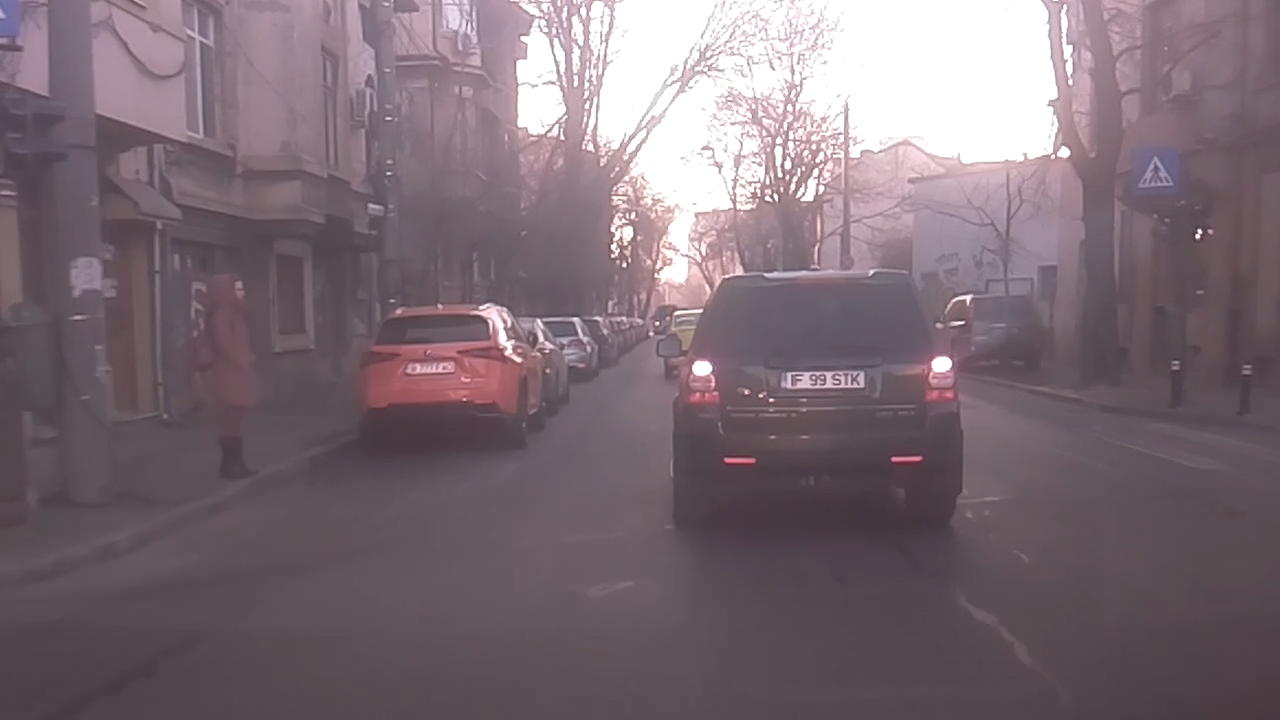license-plate: (778, 366, 868, 392)
